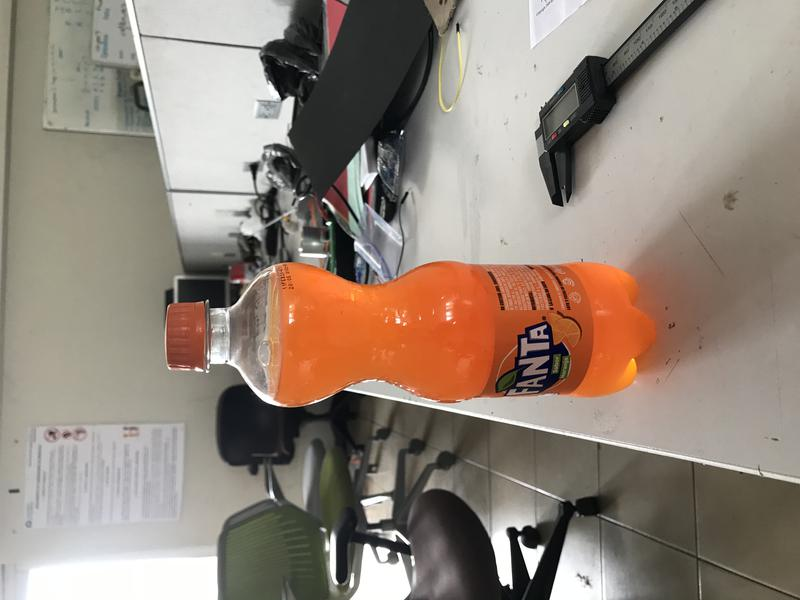fanta: (165, 261, 656, 408)
